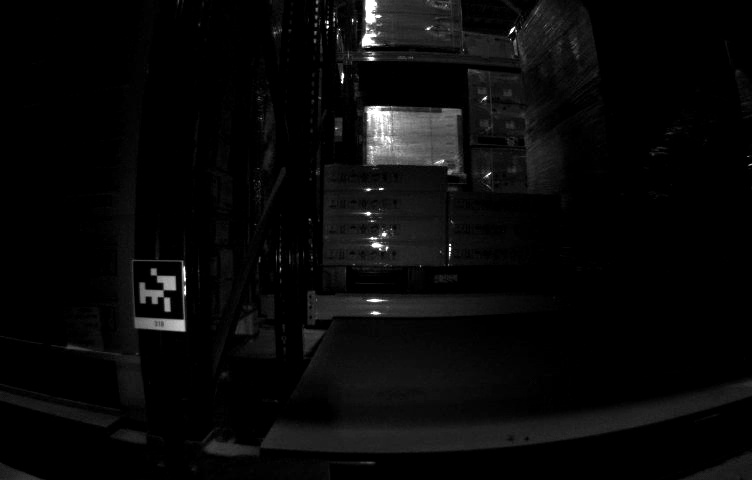True Barcode: (61, 309, 104, 350)
